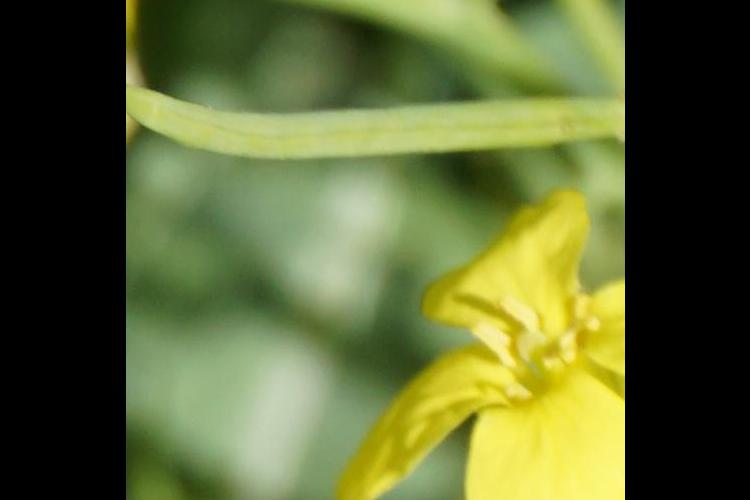yellow: (343, 199, 624, 500)
